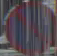No waiting: (5, 2, 56, 52)
